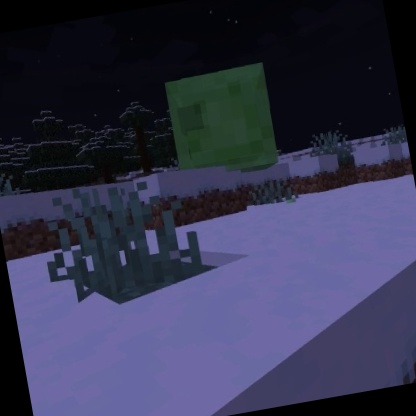slime: (158, 56, 288, 186)
